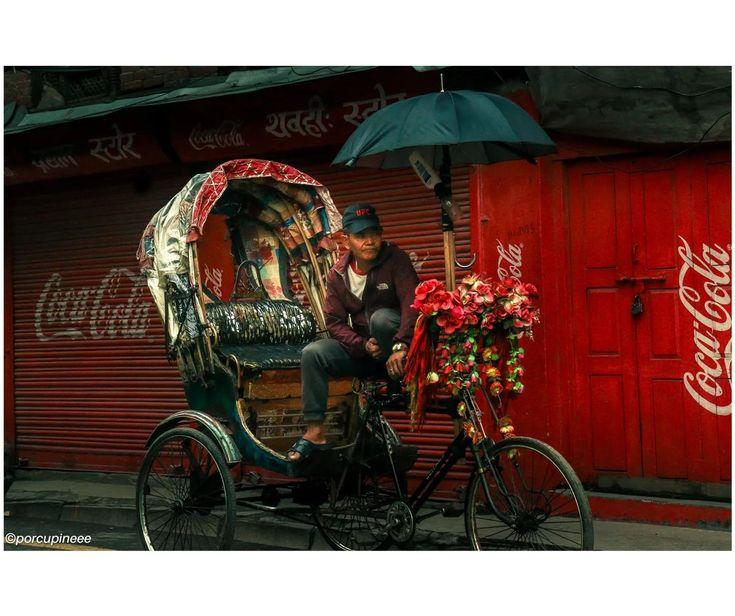Rickshaw: (136, 159, 592, 549)
